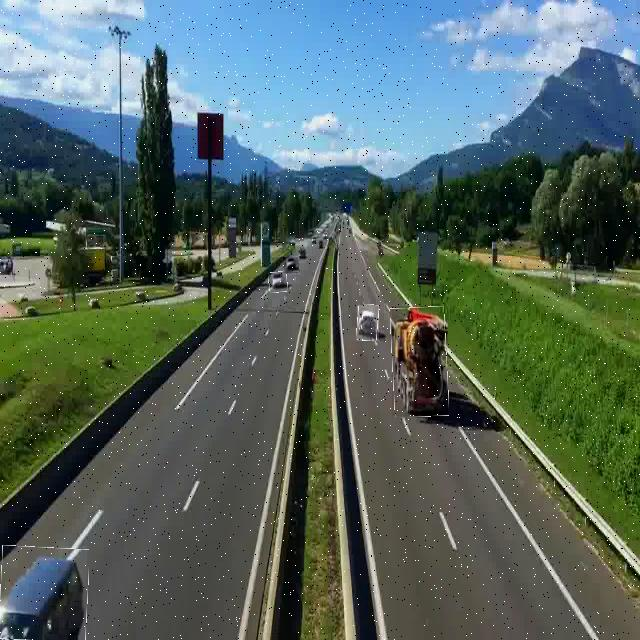Car: (0, 546, 87, 640), (357, 305, 379, 341), (269, 271, 287, 293), (283, 258, 299, 274)
Truck: (392, 306, 448, 416)
